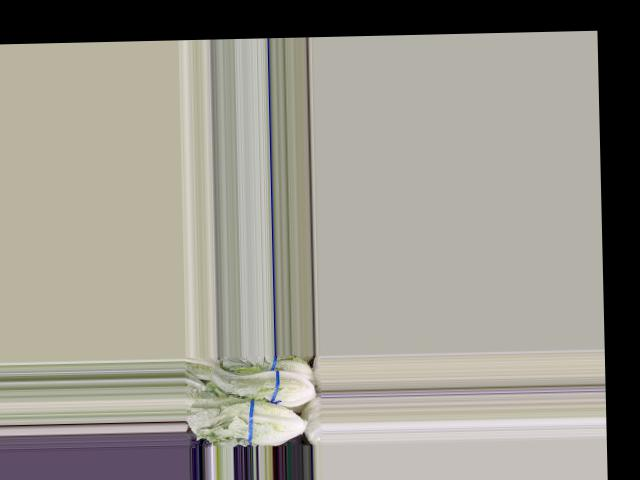lettuce: (208, 361, 317, 409)
